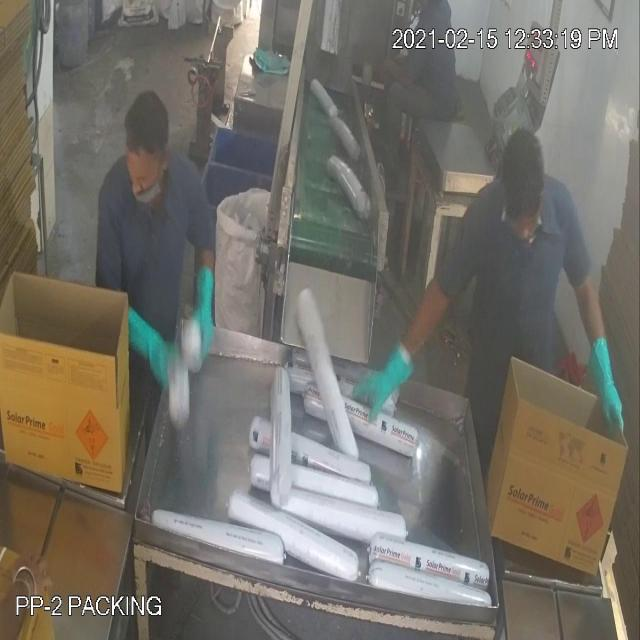gloves: (352, 287, 434, 429), (102, 278, 179, 396), (581, 317, 631, 449), (180, 249, 226, 368)
no-gloves: (368, 48, 418, 92)
